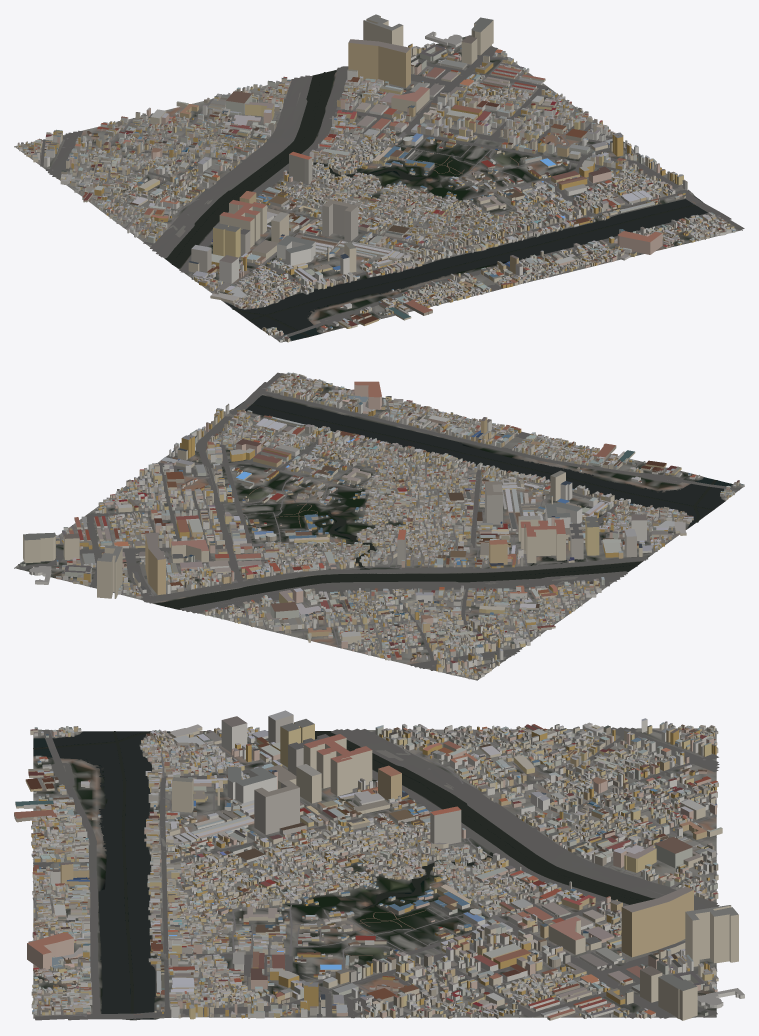
The picture shows the model from 3 angles, top to bottom: view 1: azimuth 30°, elevation 25°; view 2: azimuth 150°, elevation 25°; view 3: azimuth 270°, elevation 25°; orthographic projection. The views are drawn at different scales.
Visible parts, largest first — view 1: buildings, ground, roads, water; view 2: buildings, ground, roads, water; view 3: buildings, ground, roads, water.
Part boxes in pixels (x1=…): buildings: x1=16, y1=14, x2=735, y2=342; ground: x1=14, y1=35, x2=742, y2=342; roads: x1=17, y1=35, x2=744, y2=339; water: x1=165, y1=70, x2=707, y2=340; buildings: x1=20, y1=372, x2=744, y2=679; ground: x1=14, y1=373, x2=744, y2=680; roads: x1=15, y1=372, x2=740, y2=679; water: x1=154, y1=395, x2=732, y2=609; buildings: x1=14, y1=710, x2=744, y2=1020; ground: x1=33, y1=728, x2=716, y2=1020; roads: x1=32, y1=727, x2=719, y2=1020; water: x1=33, y1=730, x2=655, y2=1019.
Size of the model in its own units: 1433 by 112 by 1498.
